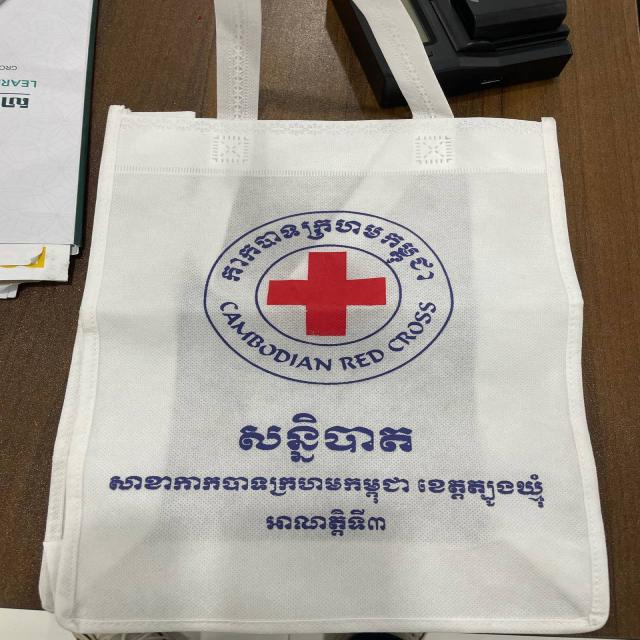1: (97, 468, 557, 514)
Yolov11_80vkh: (212, 214, 447, 288), (233, 410, 421, 466), (253, 504, 400, 542)
